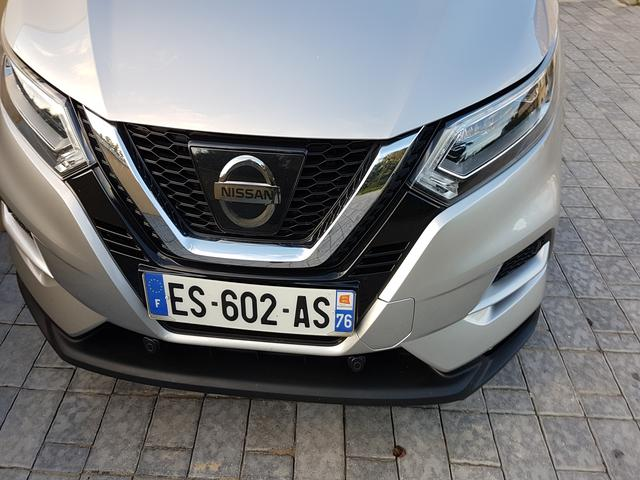Quashquai: (126, 241, 379, 367)
